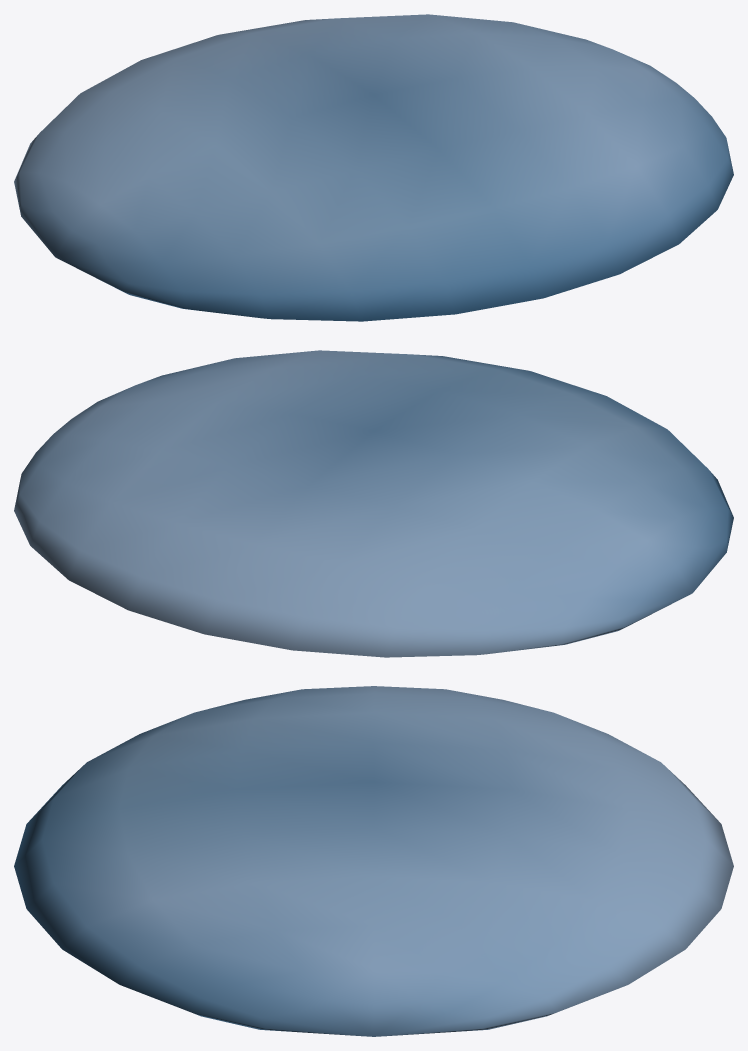
File: ground.fbx
3 views of the same model, one above another, from view 1: azimuth 30°, elevation 25°; view 2: azimuth 150°, elevation 25°; view 3: azimuth 270°, elevation 25° (orthographic). The views are drawn at different scales.
Visible parts, largest first — view 1: ground; view 2: ground; view 3: ground.
Boxes of the visible parts, <box> form: ground: <box>14,14,733,321</box>; ground: <box>14,350,733,657</box>; ground: <box>14,686,733,1036</box>.
Size of the model in its own units: 42 by 5.52 by 38.7.
